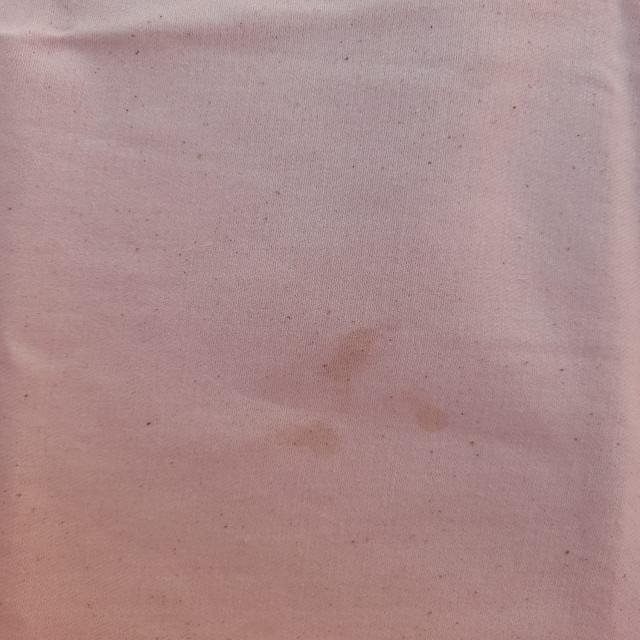taaaches: (296, 324, 390, 386), (287, 414, 349, 465), (409, 400, 462, 440)
